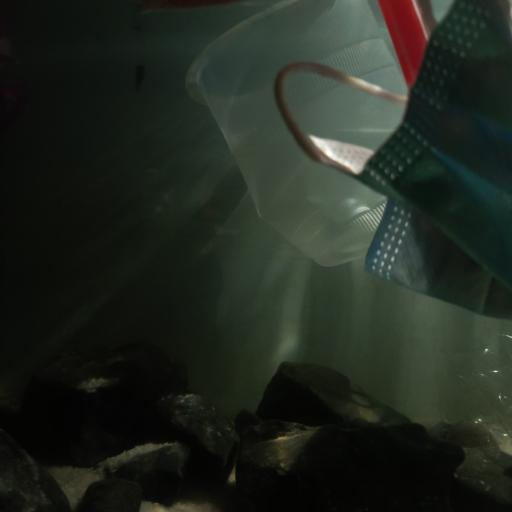mask: (273, 0, 512, 322)
plastic_bottle: (453, 327, 512, 493)
plastic_cup: (184, 0, 426, 270)
plastic_straw: (373, 0, 432, 96)
